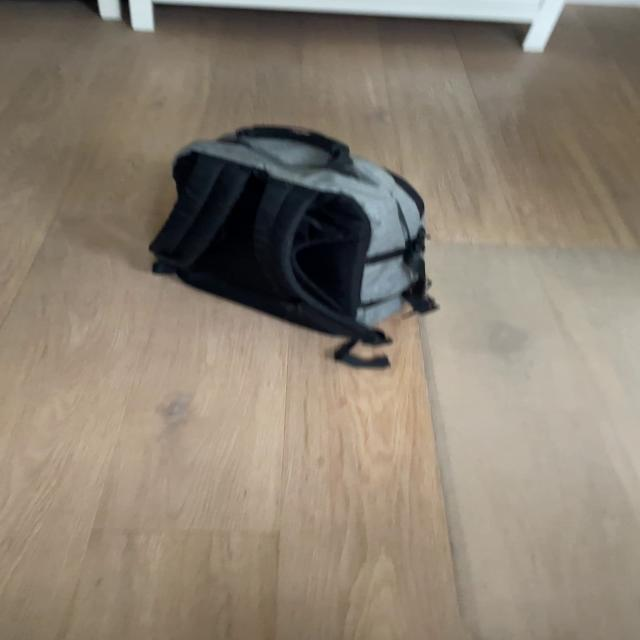backpack: (137, 114, 440, 344)
